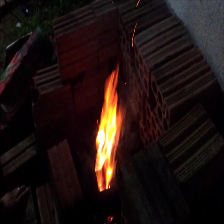fire_h: (96, 64, 126, 193)
fire_l: (130, 23, 137, 47), (136, 1, 141, 6), (109, 216, 114, 221)
